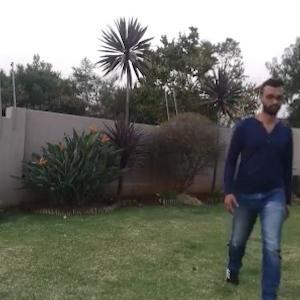follow: (237, 87, 292, 279)
